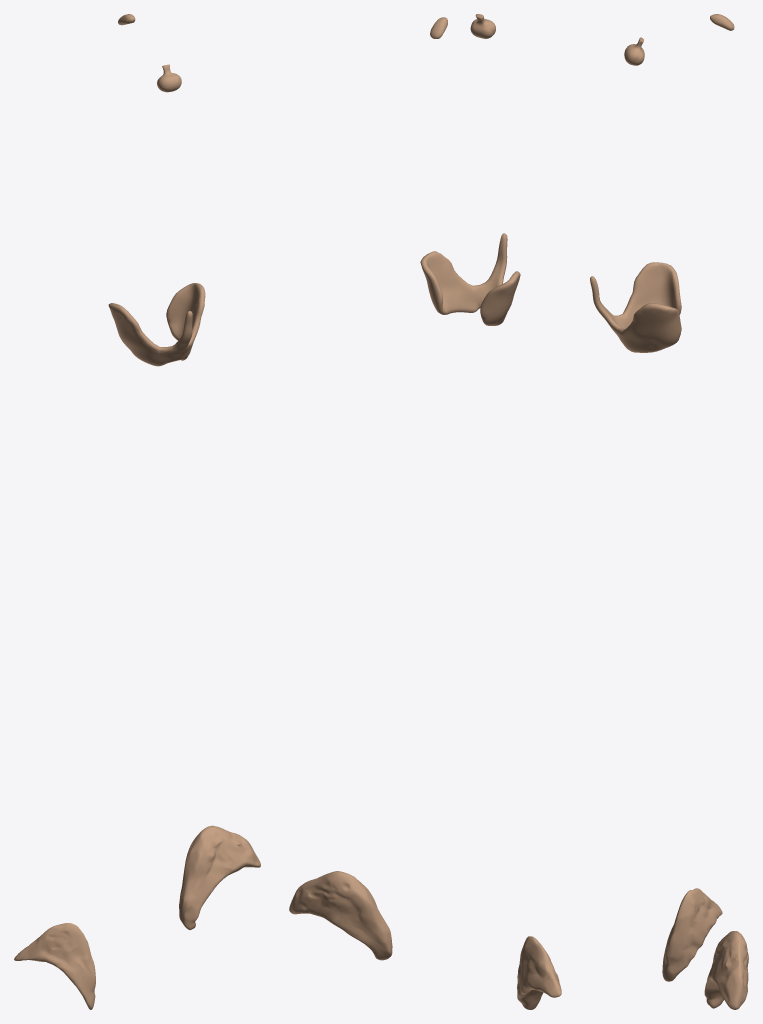
The model's file is endocrine.glb.
3 renders of one model, left to right at view 1: azimuth 30°, elevation 25°; view 2: azimuth 150°, elevation 25°; view 3: azimuth 270°, elevation 25°, orthographic. The views are drawn at different scales.
Visible parts, largest first — view 1: za-8ef65bfe59811008, za-b0e9cdd77cc7f9fe, za-a342056b09a320a2; view 2: za-8ef65bfe59811008, za-b0e9cdd77cc7f9fe, za-a342056b09a320a2; view 3: za-b0e9cdd77cc7f9fe, za-a342056b09a320a2, za-8ef65bfe59811008.
Part boxes in pixels (x1,y1,x2,y2): za-8ef65bfe59811008: (179,825,260,929); za-b0e9cdd77cc7f9fe: (108,283,205,366); za-a342056b09a320a2: (14,923,95,1009); za-8ef65bfe59811008: (289,871,392,960); za-b0e9cdd77cc7f9fe: (420,233,520,325); za-a342056b09a320a2: (517,936,561,1009); za-b0e9cdd77cc7f9fe: (590,262,681,352); za-a342056b09a320a2: (662,888,722,981); za-8ef65bfe59811008: (704,931,748,1009).
Size of the model in its own units: 0.138 by 0.4994 by 0.072.
